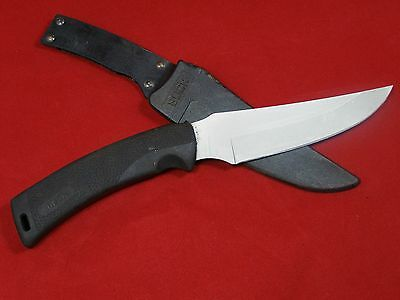knief: (23, 18, 391, 253)
